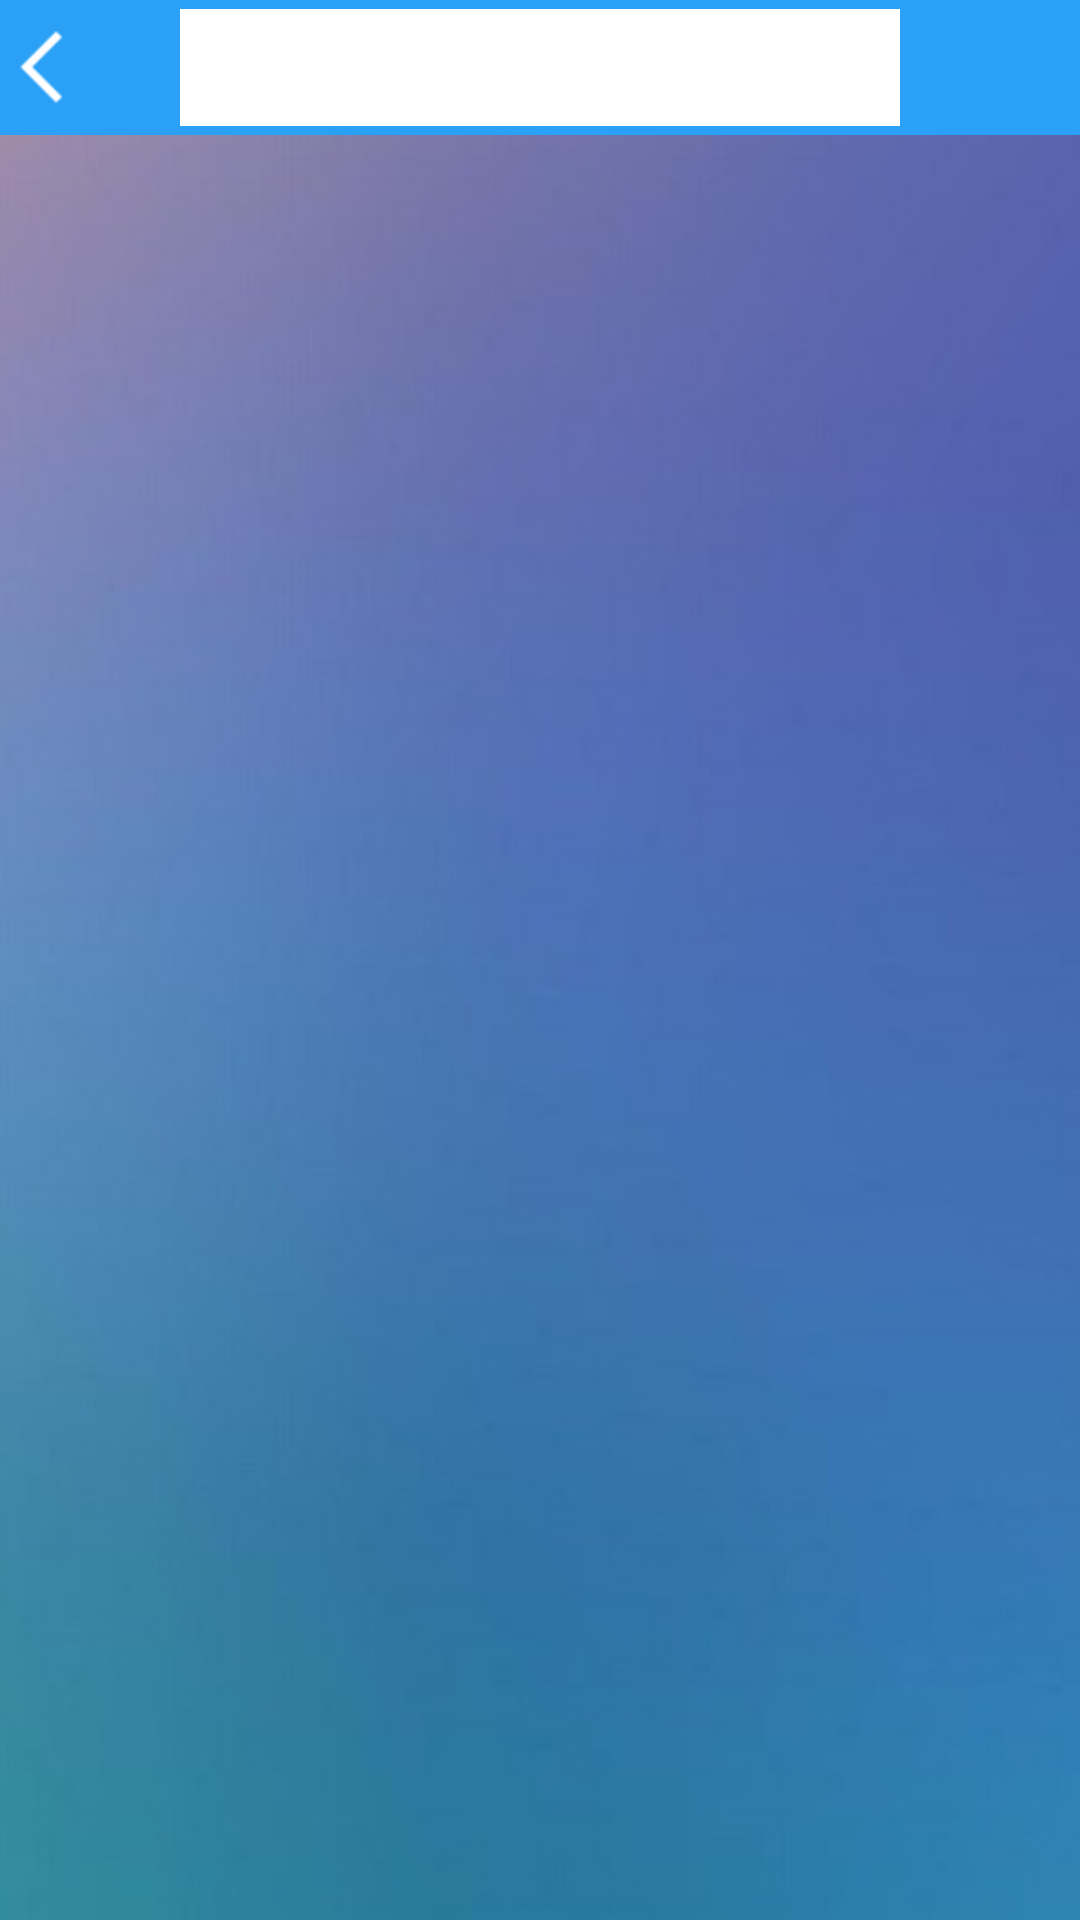

Where icons sit on this 1080px x 1920px app screen, as [x1,y1,x2,y2]:
fanhui: [20,31,62,103]
